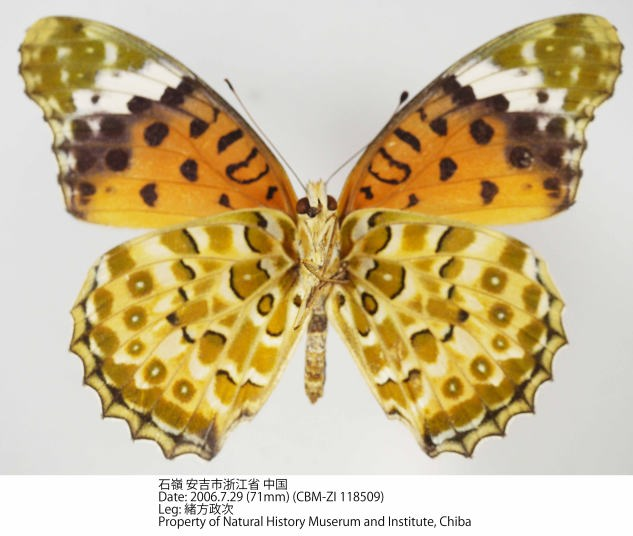Argyreus hyperbius: (10, 8, 630, 459)
butterfly: (12, 10, 632, 461)
